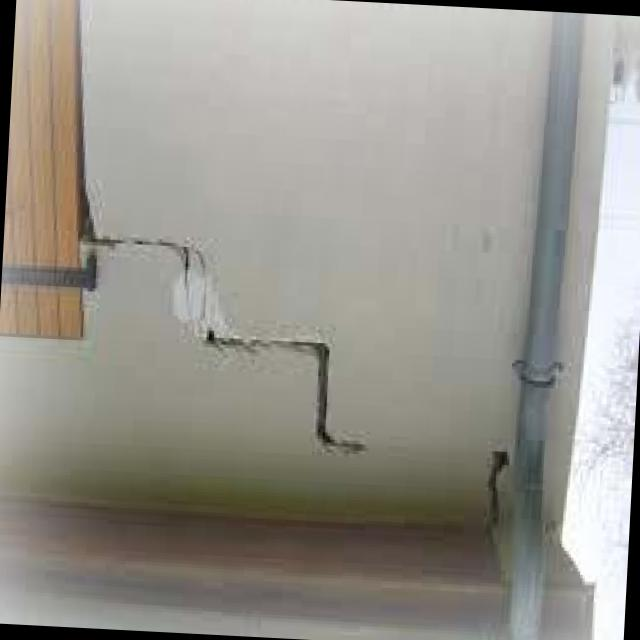crack: (80, 176, 368, 455), (481, 445, 514, 528)
